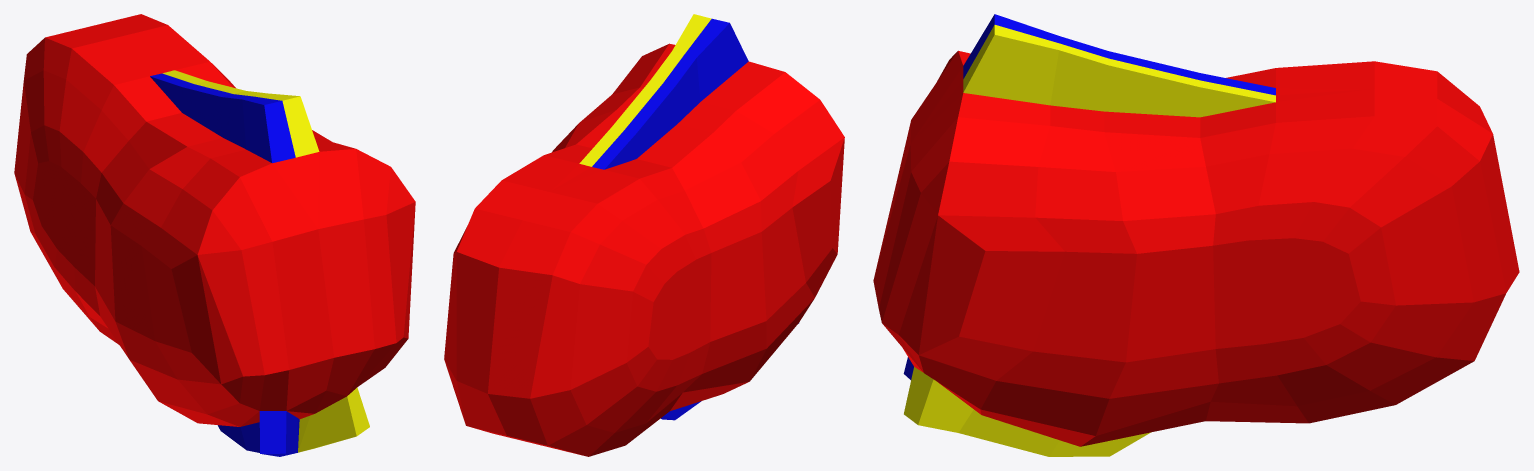
The model's file is Mo_Twolf_Body.fbx.
The picture shows the model from 3 angles, left to right: view 1: azimuth 30°, elevation 25°; view 2: azimuth 150°, elevation 25°; view 3: azimuth 270°, elevation 25°; orthographic projection. The views are drawn at different scales.
Parts seen in each view (by area): view 1: Body.002; view 2: Body.002; view 3: Body.002.
Part boxes in pixels (box(x1,y1,x2,y2)): Body.002: box(14, 14, 415, 456); Body.002: box(444, 14, 844, 456); Body.002: box(873, 14, 1519, 456).
Bounding box in the file's own units: 413 × 628 × 860.
